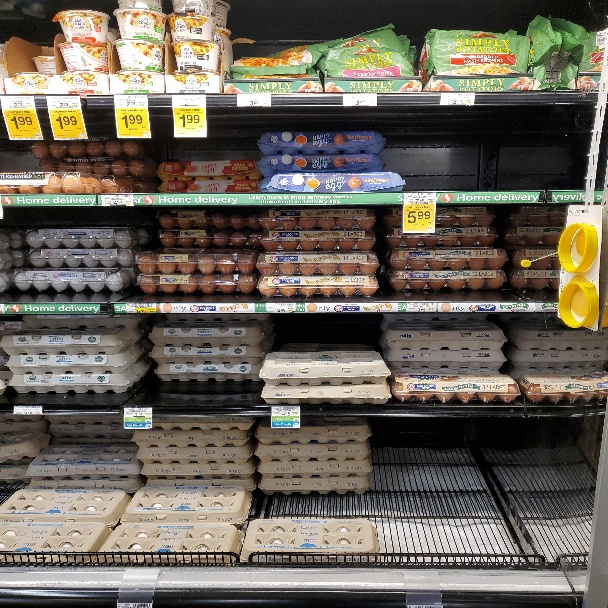All PRICE TAGS: (47, 95, 81, 109), (238, 93, 271, 107), (342, 93, 376, 106), (440, 92, 474, 105), (0, 97, 35, 109), (114, 94, 147, 106), (172, 95, 206, 106), (403, 192, 435, 203), (101, 195, 133, 205), (406, 302, 436, 312), (125, 304, 156, 313), (266, 303, 295, 312), (272, 406, 299, 415), (330, 303, 359, 311), (14, 406, 42, 414), (124, 408, 151, 416), (597, 32, 608, 47), (117, 603, 151, 607), (408, 605, 442, 607)
